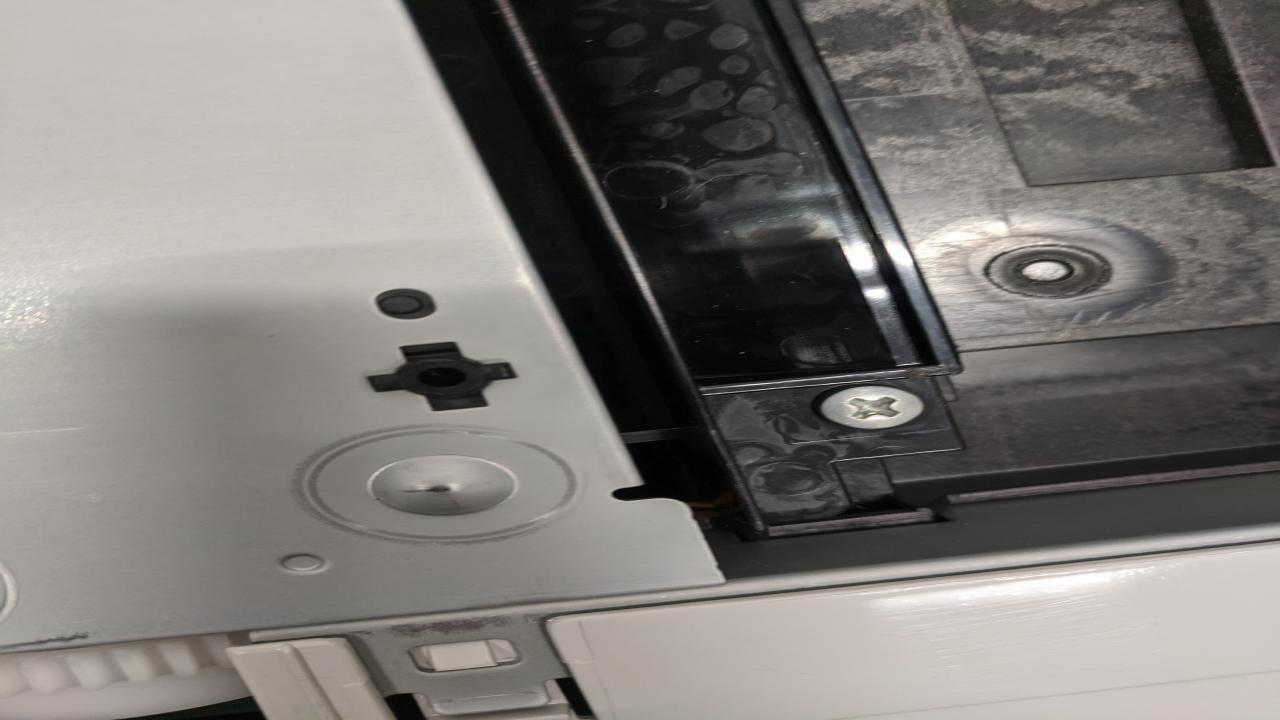CRS: (817, 384, 932, 432)
